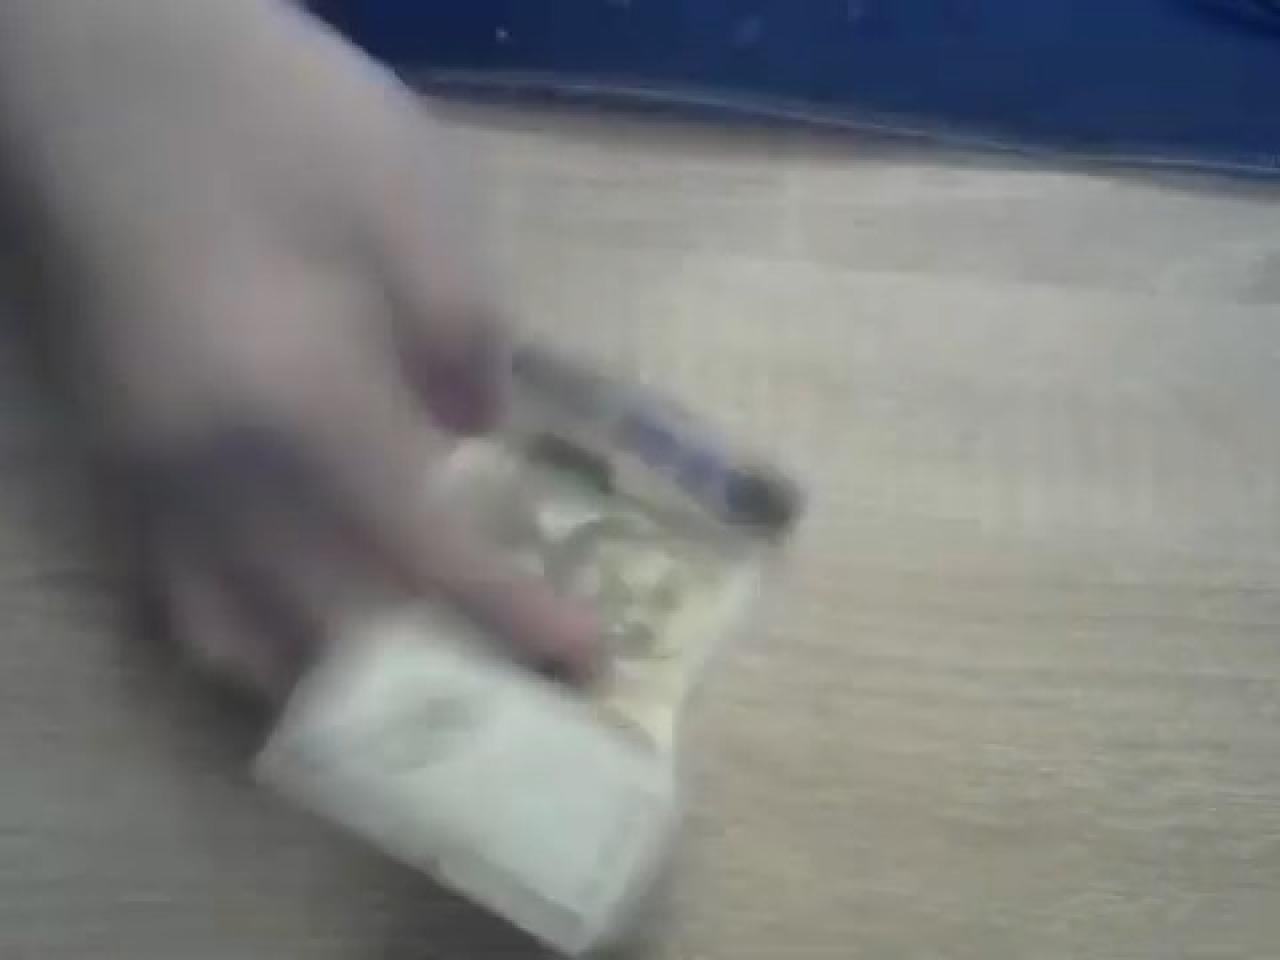10leva: (11, 0, 800, 960)
